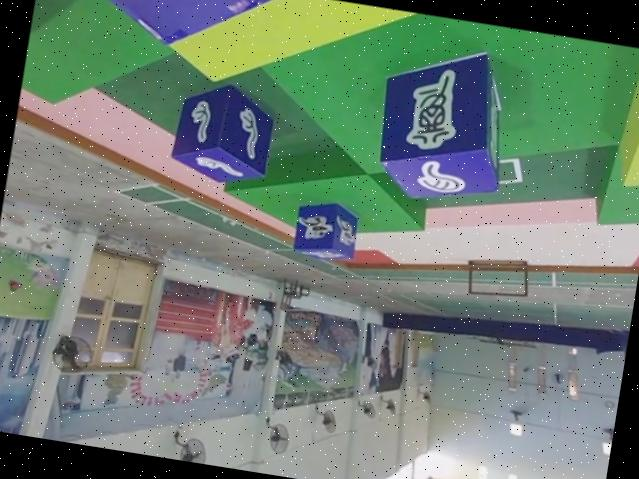R1 Blue: (291, 195, 363, 263)
R2 Fake Blue: (369, 35, 520, 209)
R2 Real Blue: (168, 76, 280, 188)
